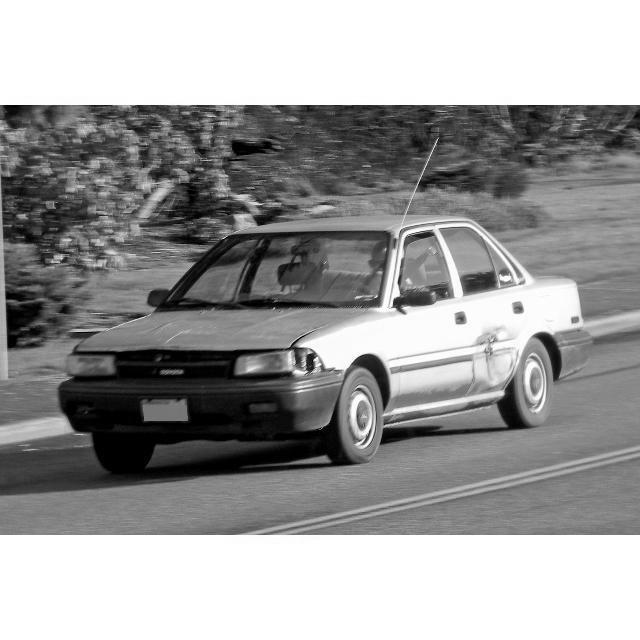doorouter-dent: (470, 308, 519, 392)
